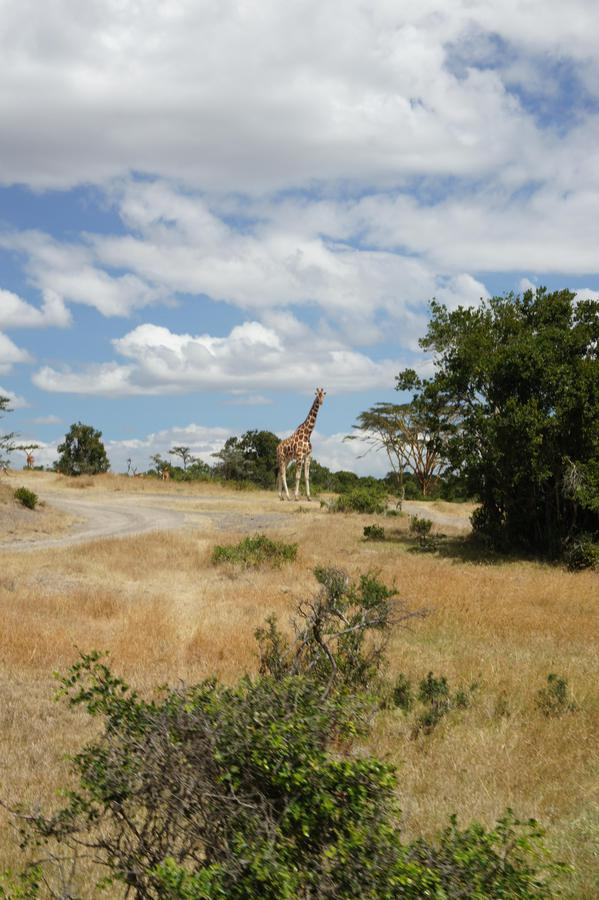giraffe: (272, 383, 329, 506)
